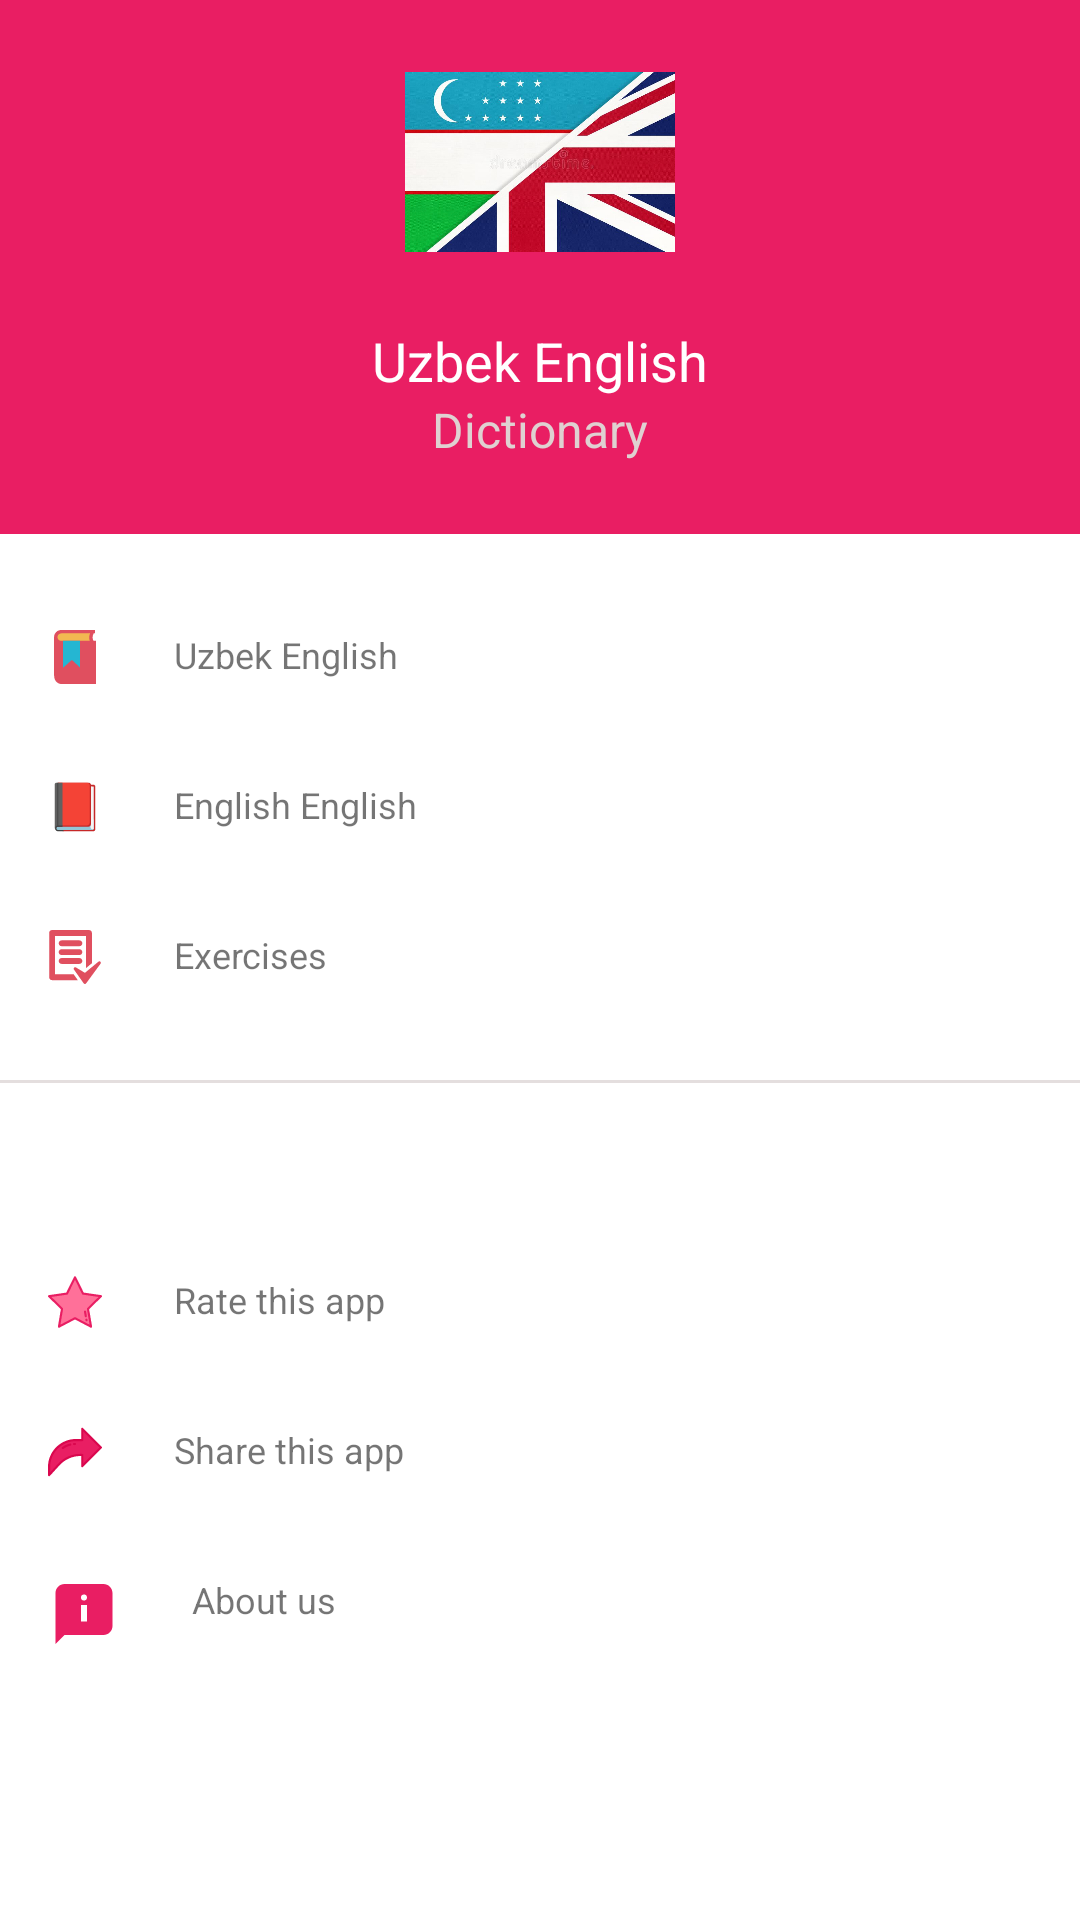

Screen size 1080*1920. Icon name, then its center in pixels as [x,y]:
flag: [540,162]
